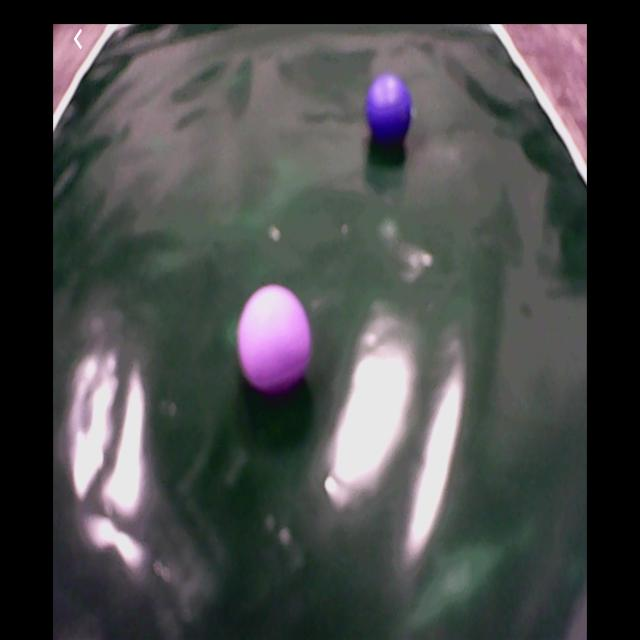ball: (241, 285, 312, 397), (368, 78, 411, 145)
